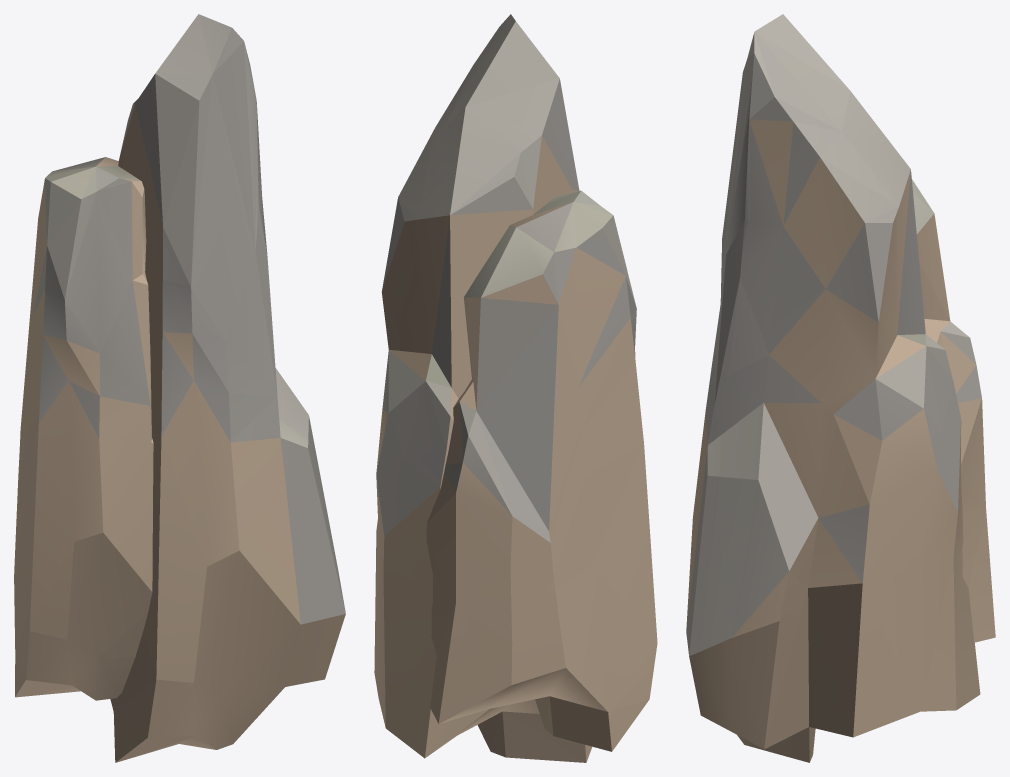
Rendered from mesa_0.glb.
3 renders of one model, left to right at view 1: azimuth 30°, elevation 25°; view 2: azimuth 150°, elevation 25°; view 3: azimuth 270°, elevation 25°, orthographic. The views are drawn at different scales.
Parts seen in each view (by area): view 1: mesa_0; view 2: mesa_0; view 3: mesa_0.
Part boxes in pixels (box(x1,y1,x2,y2)): mesa_0: box(14, 14, 345, 762); mesa_0: box(374, 14, 657, 762); mesa_0: box(686, 14, 995, 762).
Bounding box in the file's own units: 13.57 × 34 × 12.83.
